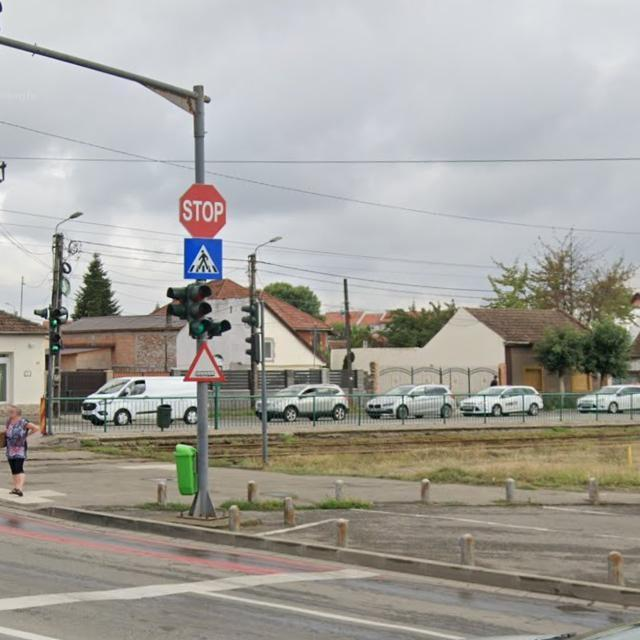info_crosswalk: (184, 238, 223, 280)
prio_stop: (178, 183, 227, 237)
